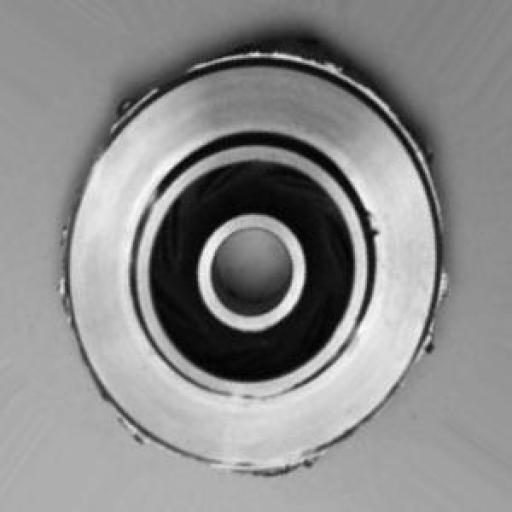defect: (28, 23, 466, 483)
